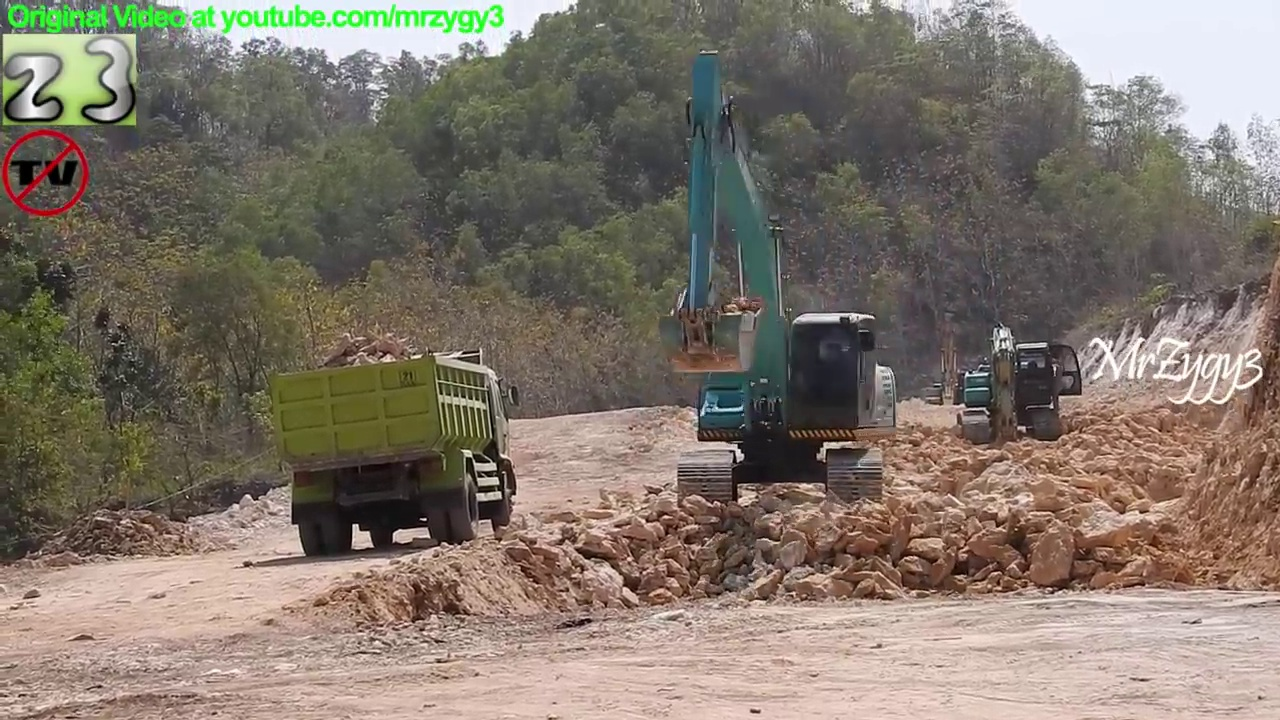excavator: (651, 44, 906, 514), (919, 305, 985, 416)
excavator breaker: (954, 314, 1091, 459)
truck: (264, 340, 526, 565)
